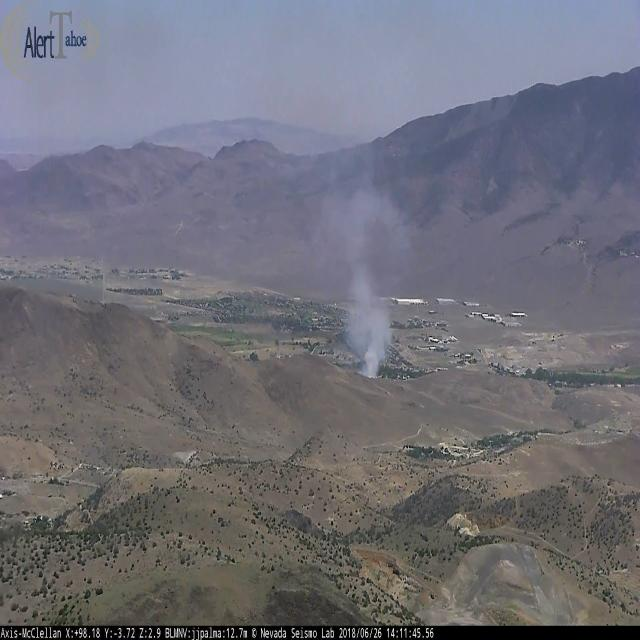smoke: (344, 268, 392, 380)
